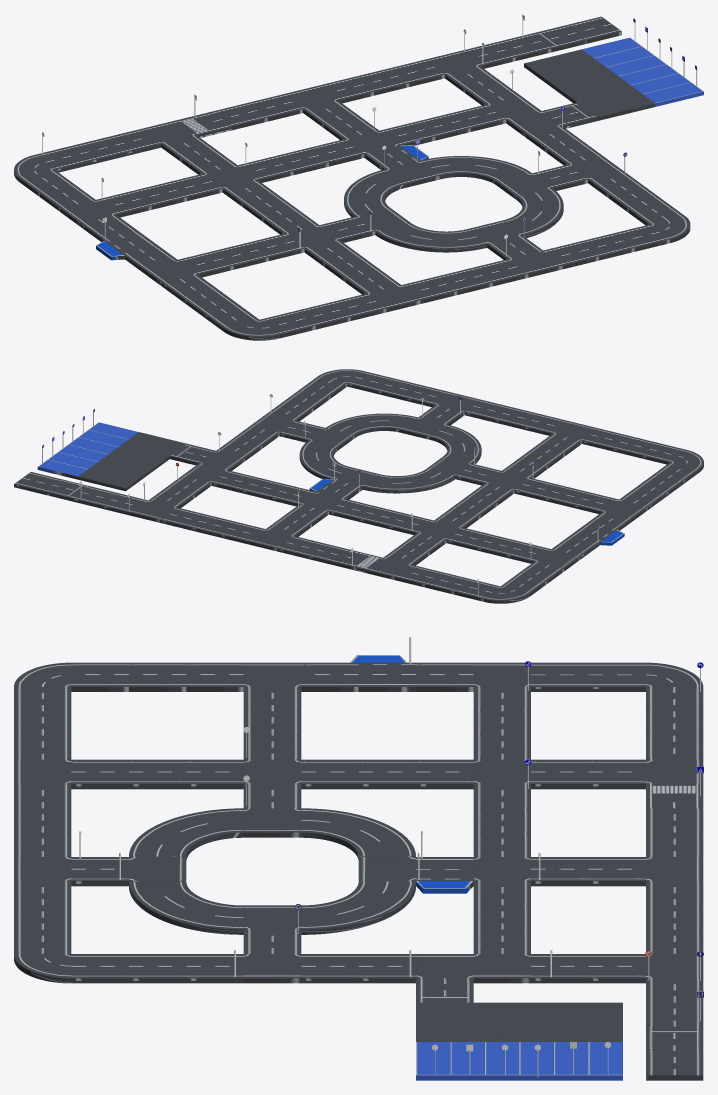
Rendered from Harita.dae.
3 views of the same model, one above another, from view 1: azimuth 30°, elevation 25°; view 2: azimuth 150°, elevation 25°; view 3: azimuth 270°, elevation 25° (orthographic). The views are drawn at different scales.
Parts seen in each view (by area): view 1: Boş.004, O-Yol.004, O-Yol.001, O-Yol.003, O-Yol, Boş, DüzYol.036, DüzYol.086, DüzYol.001, Başlangıç, DüzYol.013, DüzYol.025 (+85 smaller); view 2: Boş.004, O-Yol, O-Yol.003, O-Yol.001, O-Yol.004, Boş, DüzYol.010, DüzYol.025, DüzYol.055, DüzYol.066, DüzYol.004, DüzYol.009 (+85 smaller); view 3: Boş.004, O-Yol.003, O-Yol.001, O-Yol.004, O-Yol, Boş, DüzYol.029, DüzYol.061, DüzYol.062, DüzYol.070, DüzYol.072, DüzYol.027 (+86 smaller).
Part boxes in pixels (x1,y1,x2,y2): Boş.004: (552,70,655,120); O-Yol.004: (375,223,487,252); O-Yol.001: (421,156,531,185); O-Yol.003: (502,188,563,238); O-Yol: (344,169,405,217); Boş: (524,49,601,81); DüzYol.036: (131,182,187,209); DüzYol.086: (472,259,528,286); DüzYol.001: (495,34,551,60); Başlangıç: (531,25,586,52); DüzYol.013: (70,137,125,164); DüzYol.025: (247,94,302,121); Boş.004: (102,432,186,473); O-Yol: (363,469,455,493); O-Yol.003: (326,413,417,437); O-Yol.001: (299,440,349,479); O-Yol.004: (430,424,481,464); Boş: (78,464,142,491); DüzYol.010: (211,470,257,492); DüzYol.025: (278,536,323,558); DüzYol.055: (514,478,560,500); DüzYol.066: (582,428,627,450); DüzYol.004: (494,407,539,429); DüzYol.009: (395,565,441,587); Boş.004: (416,1002,542,1041); O-Yol.003: (129,881,243,934); O-Yol.001: (301,881,415,934); O-Yol.004: (129,808,243,859); O-Yol: (301,808,415,859); Boş: (565,1002,622,1041); DüzYol.029: (588,759,645,789); DüzYol.061: (416,759,473,789); DüzYol.062: (301,759,358,789); DüzYol.070: (71,759,128,789); DüzYol.072: (186,759,243,789); DüzYol.027: (531,759,588,789).
Bounding box in the file's own units: 34.64 × 24.03 × 1.45.
33 materials, 27 textured.
